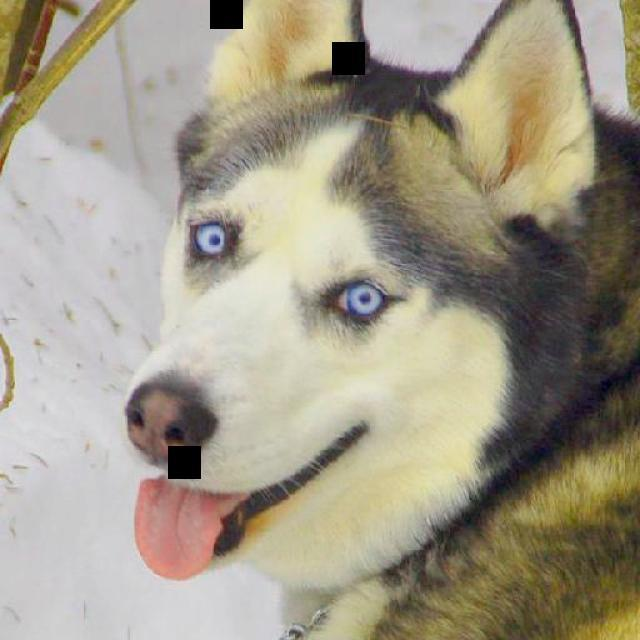adult_dog: (117, 1, 640, 640)
